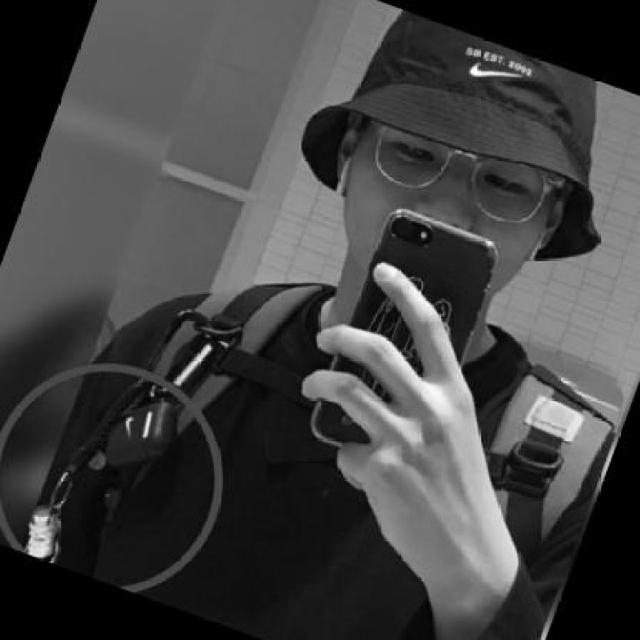earphone: (527, 221, 563, 272), (334, 149, 359, 202)
smart phone: (318, 207, 506, 466)
